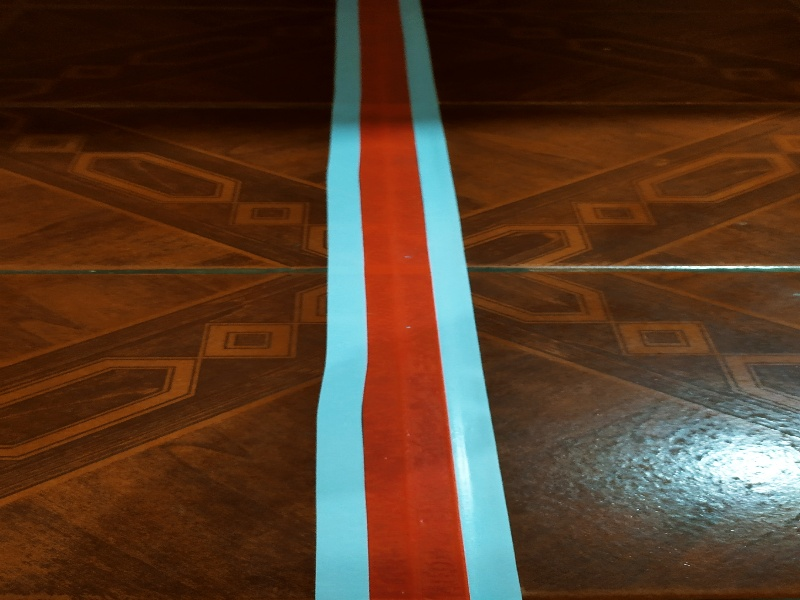reta: (301, 10, 522, 600)
